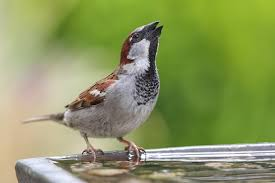hsparrow: (18, 19, 169, 168)
